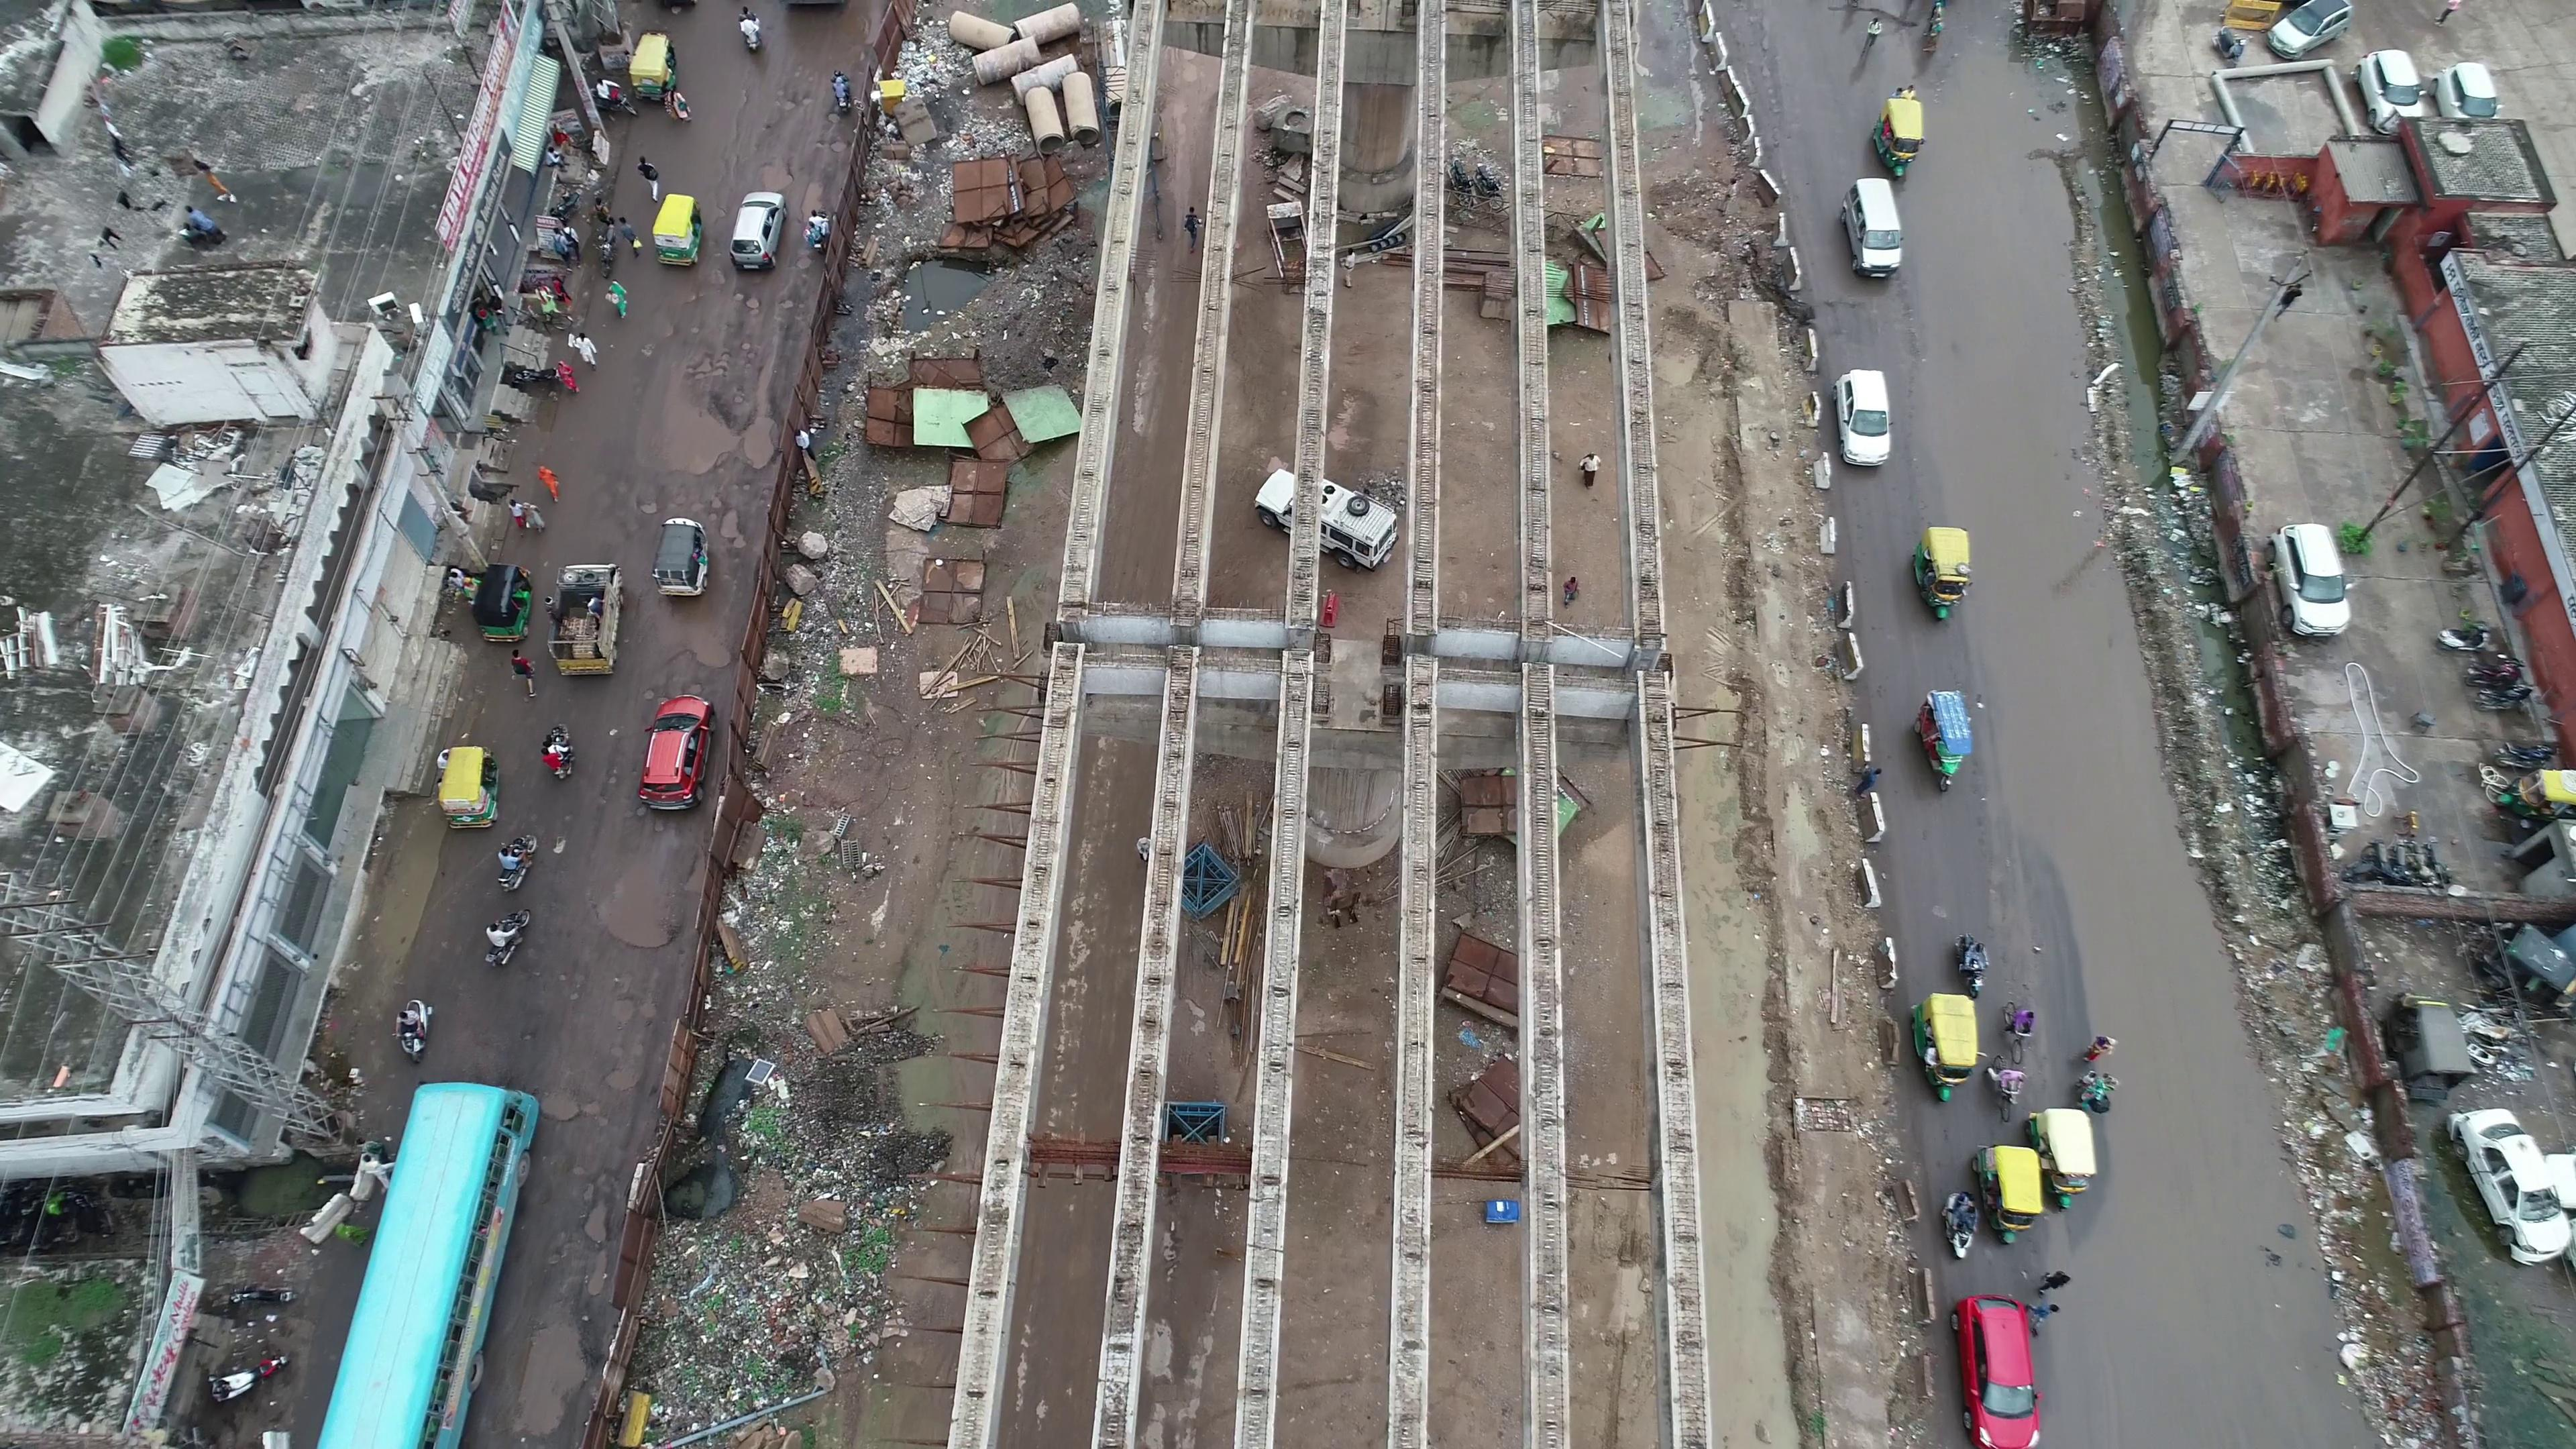Potholes: (669, 294, 763, 403), (591, 962, 660, 1104), (563, 1164, 626, 1288), (596, 761, 662, 846), (706, 478, 761, 557), (771, 62, 824, 124), (610, 474, 669, 524), (780, 255, 816, 326), (640, 678, 706, 706), (814, 131, 849, 166)
Waterlogging: (1902, 172, 2107, 632), (2054, 1154, 2296, 1428)
